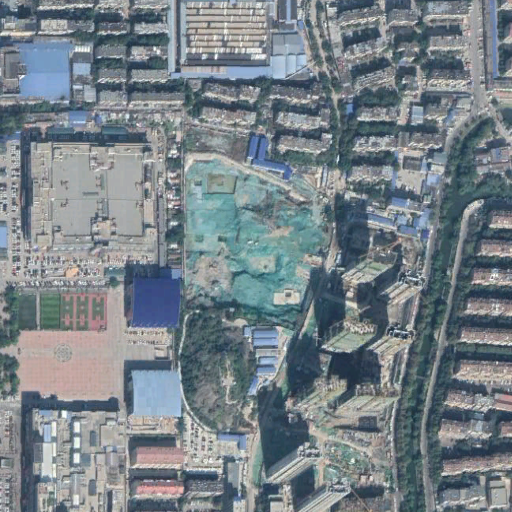cw: (183, 149, 341, 324)
